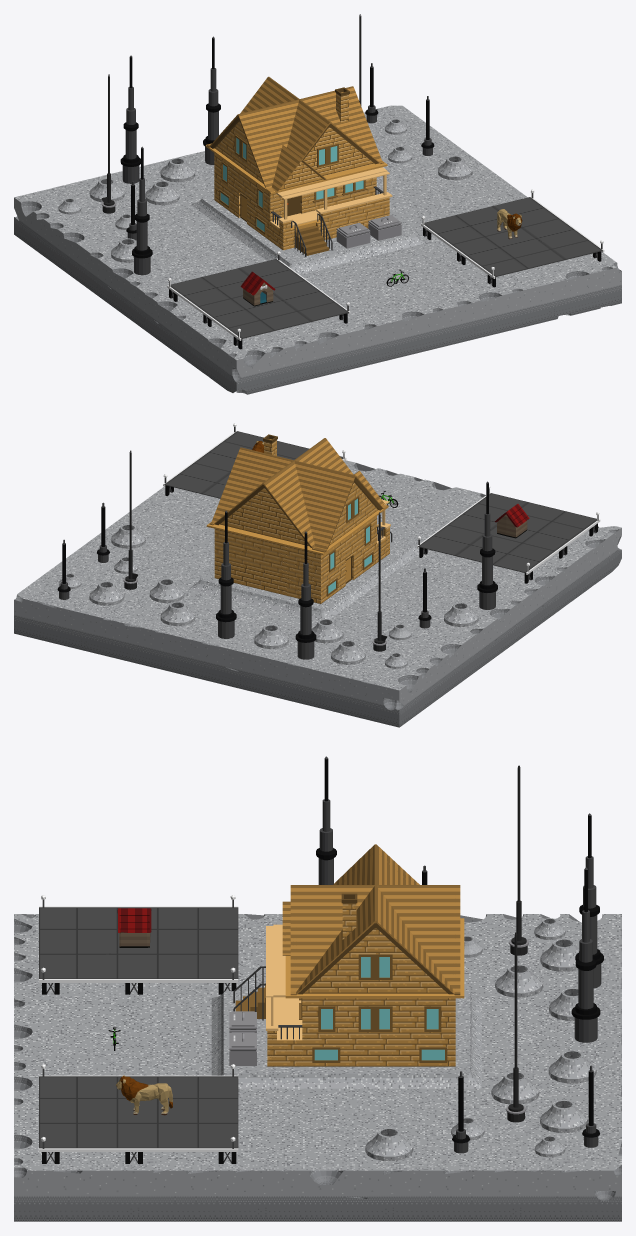
3 views of the same model, one above another, from view 1: azimuth 30°, elevation 25°; view 2: azimuth 150°, elevation 25°; view 3: azimuth 270°, elevation 25° (orthographic). The views are drawn at different scales.
Parts seen in each view (by area): view 1: Cube.027, Cube.508, Cube.026, Cube.025, Cube.028, Cylinder.020, Cylinder.021, Cylinder.017, OBJRANDOM_DOGHOUSE, Cube.029, Cube.030, Cylinder.027 (+3 smaller); view 2: Cube.027, Cube.508, Cube.025, Cube.028, Cube.026, Cylinder.020, Cylinder.021, Cylinder.017, OBJRANDOM_DOGHOUSE, Cylinder.031, Cylinder.028, Cylinder.029 (+7 smaller); view 3: Cube.027, Cube.508, Cube.026, Cube.025, Cube.028, Cylinder.017, Cylinder.020, Cylinder.021, OBJRANDOM_DOGHOUSE, ANIMAL_LEON, Cylinder.033, Cylinder.031 (+10 smaller).
Boxes of the visible parts, bbox=[...] form: Cube.027: bbox=[14, 105, 621, 394]; Cube.508: bbox=[205, 76, 392, 256]; Cube.026: bbox=[421, 189, 604, 287]; Cube.025: bbox=[167, 251, 350, 349]; Cube.028: bbox=[191, 195, 424, 274]; Cylinder.020: bbox=[120, 55, 140, 183]; Cylinder.021: bbox=[132, 146, 152, 275]; Cylinder.017: bbox=[203, 36, 220, 164]; OBJRANDOM_DOGHOUSE: bbox=[240, 271, 275, 306]; Cube.029: bbox=[336, 222, 370, 248]; Cube.030: bbox=[368, 215, 401, 240]; Cylinder.027: bbox=[160, 158, 195, 182]; Cube.027: bbox=[14, 460, 621, 727]; Cube.508: bbox=[206, 434, 392, 603]; Cube.025: bbox=[417, 485, 600, 583]; Cube.028: bbox=[190, 538, 419, 620]; Cube.026: bbox=[163, 423, 346, 498]; Cylinder.020: bbox=[295, 531, 316, 659]; Cylinder.021: bbox=[477, 481, 497, 609]; Cylinder.017: bbox=[216, 510, 236, 638]; OBJRANDOM_DOGHOUSE: bbox=[494, 504, 529, 538]; Cylinder.031: bbox=[89, 581, 124, 605]; Cylinder.028: bbox=[331, 640, 365, 664]; Cylinder.029: bbox=[160, 601, 195, 626]; Cube.027: bbox=[14, 914, 621, 1221]; Cube.508: bbox=[233, 844, 464, 1066]; Cube.026: bbox=[39, 1064, 238, 1163]; Cube.025: bbox=[39, 895, 238, 994]; Cube.028: bbox=[211, 991, 481, 1088]; Cylinder.017: bbox=[571, 867, 600, 1042]; Cylinder.020: bbox=[575, 813, 603, 988]; Cylinder.021: bbox=[316, 756, 336, 884]; OBJRANDOM_DOGHOUSE: bbox=[117, 908, 151, 947]; ANIMAL_LEON: bbox=[116, 1075, 172, 1115]; Cylinder.033: bbox=[365, 1128, 413, 1160]; Cylinder.031: bbox=[540, 1100, 587, 1132].
Bounding box in the file's own units: 4000 × 1749 × 4000.
Materials: 37 (6 with a texture image).
